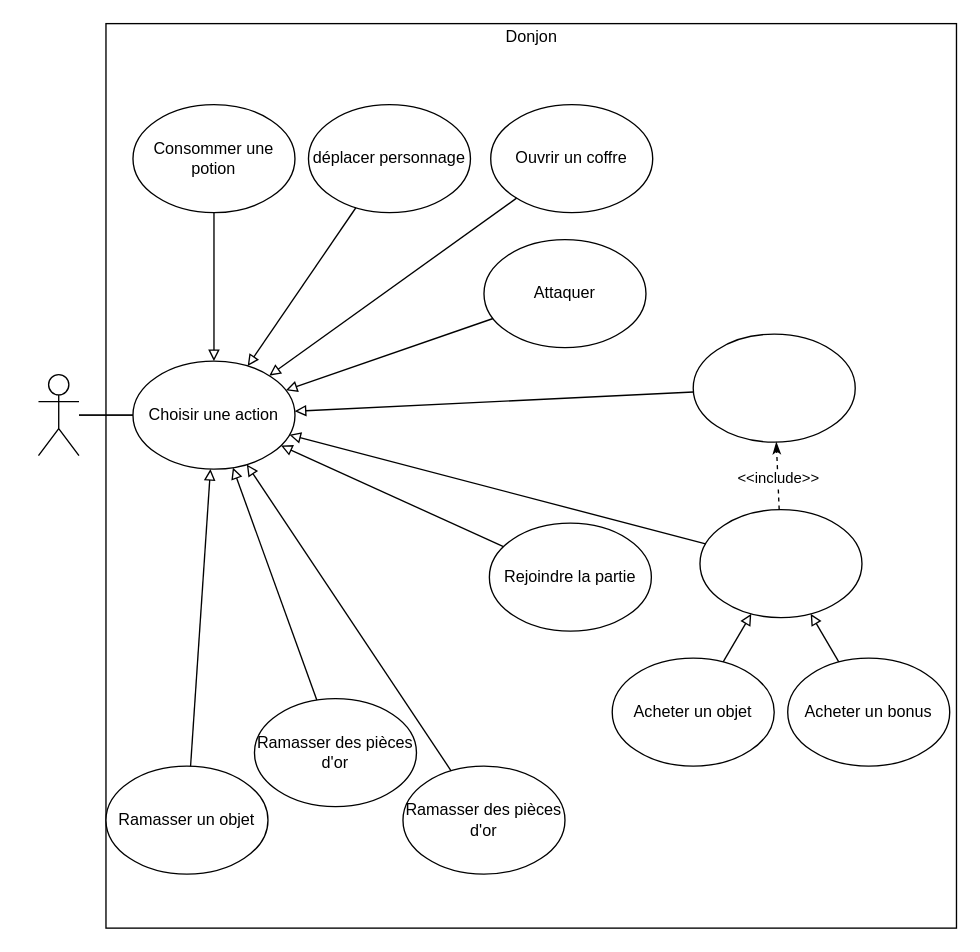
Some shapes in this 980 by 952 pixel diagram are drawn without their labels. The shapes that lost their labels are listed below. From the top down, each one's centre as x and y in pixels, then its label:
At (x=773, y=387): "Intéragir avec un marchand".
At (x=58, y=414): "Utilisateur".
At (x=780, y=563): "Acheter un bien à un marchand".
